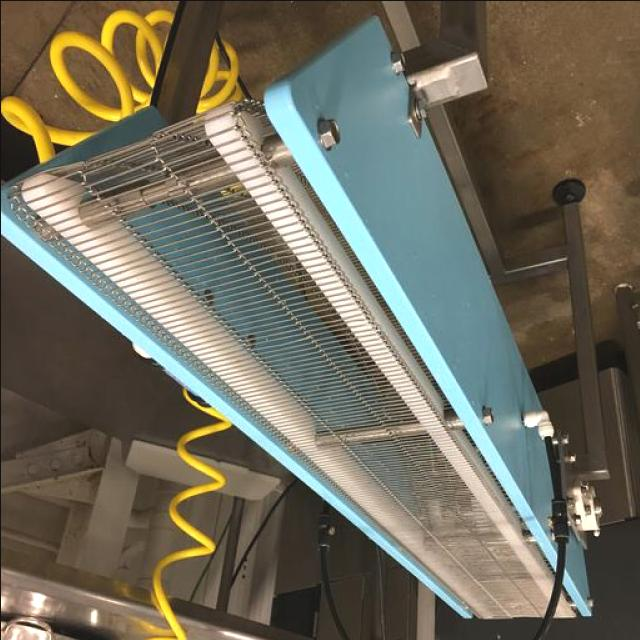conveyor: (6, 102, 588, 618)
